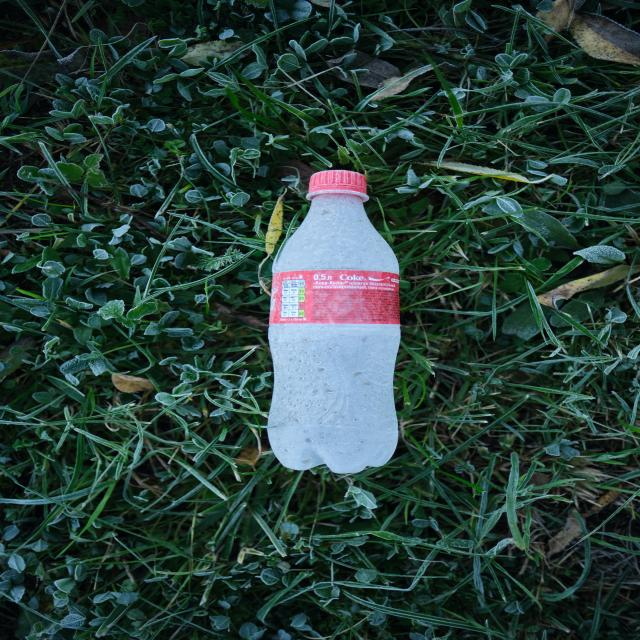bottle: (268, 170, 403, 474)
